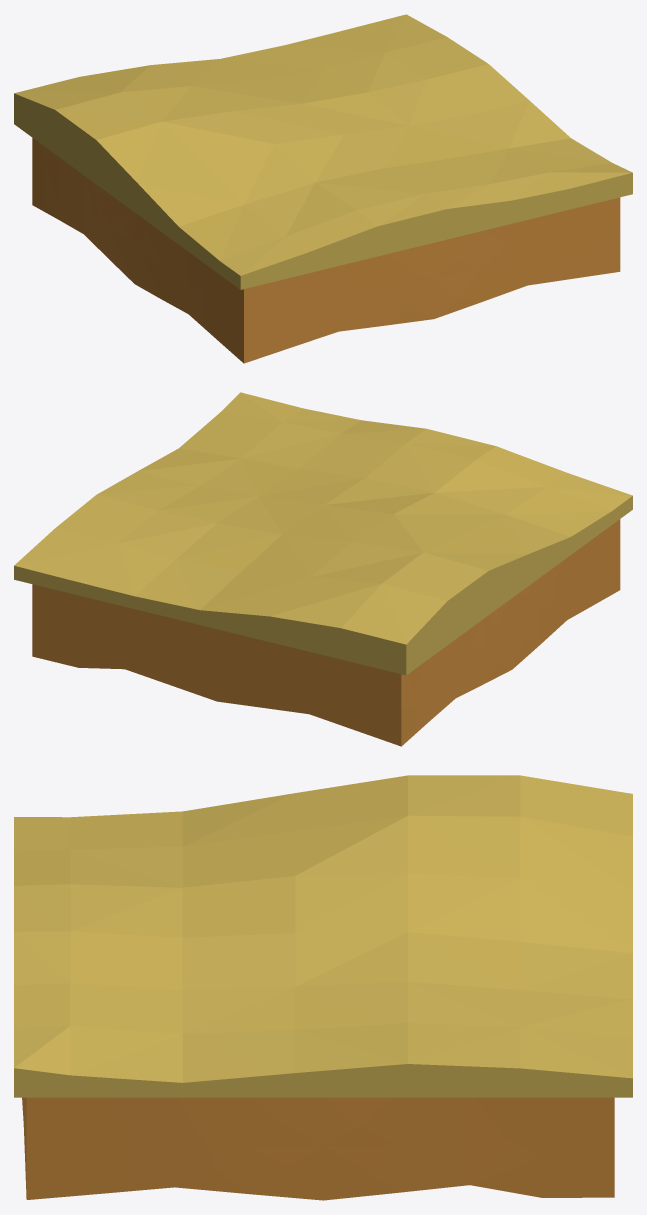
The model's file is world-desert.fbx.
3 views of the same model, one above another, from view 1: azimuth 30°, elevation 25°; view 2: azimuth 150°, elevation 25°; view 3: azimuth 270°, elevation 25° (orthographic). The views are drawn at different scales.
Visible parts, largest first — view 1: nature_desert_terrain; view 2: nature_desert_terrain; view 3: nature_desert_terrain.
Part boxes in pixels (box(x1,y1,x2,y2)): nature_desert_terrain: box(14, 14, 632, 363); nature_desert_terrain: box(14, 392, 632, 746); nature_desert_terrain: box(14, 775, 632, 1200).
Size of the model in its own units: 2000 by 612 by 2000.
